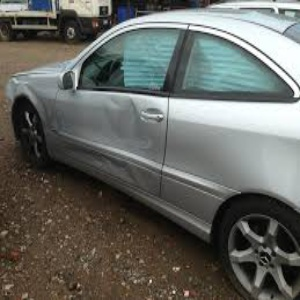door: (63, 95, 178, 192)
